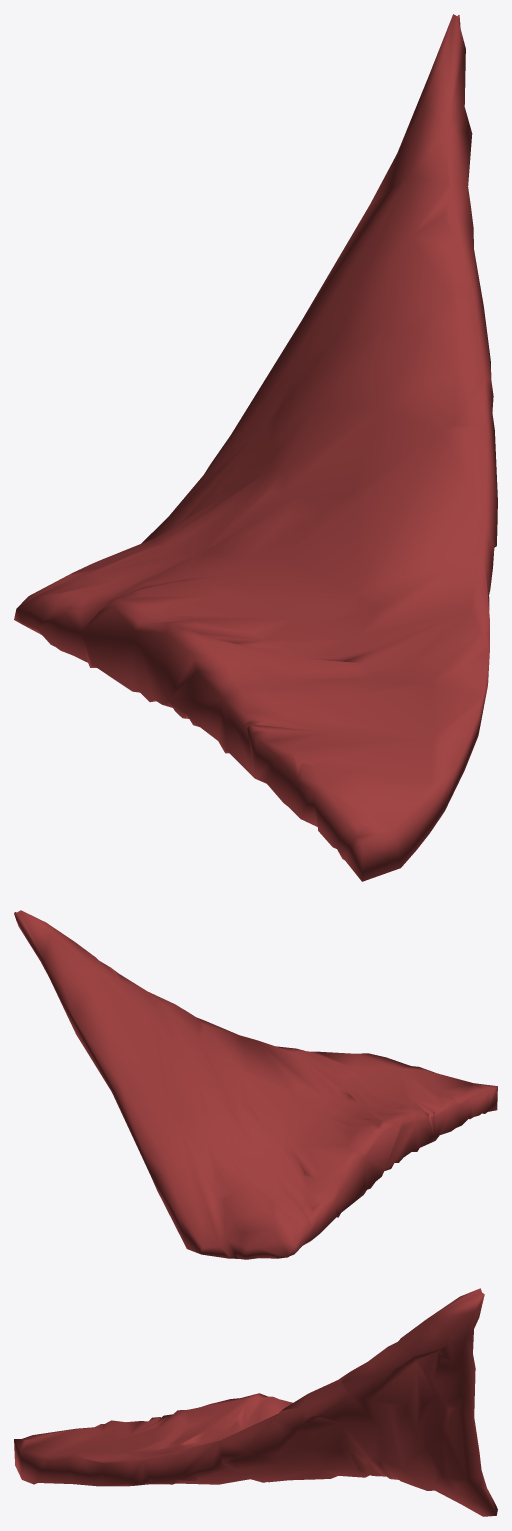
File: mylohyoid-muscle-l.glb
3 renders of one model, top to bottom at view 1: azimuth 30°, elevation 25°; view 2: azimuth 150°, elevation 25°; view 3: azimuth 270°, elevation 25°, orthographic. The views are drawn at different scales.
Visible parts, largest first — view 1: Mylohyoid muscle.l; view 2: Mylohyoid muscle.l; view 3: Mylohyoid muscle.l.
Boxes of the visible parts, box(x1,y1,x2,y2) form: Mylohyoid muscle.l: box(14, 14, 497, 881); Mylohyoid muscle.l: box(14, 910, 497, 1259); Mylohyoid muscle.l: box(14, 1288, 497, 1516).
Size of the model in its own units: 0.0269 by 0.028 by 0.0378.
